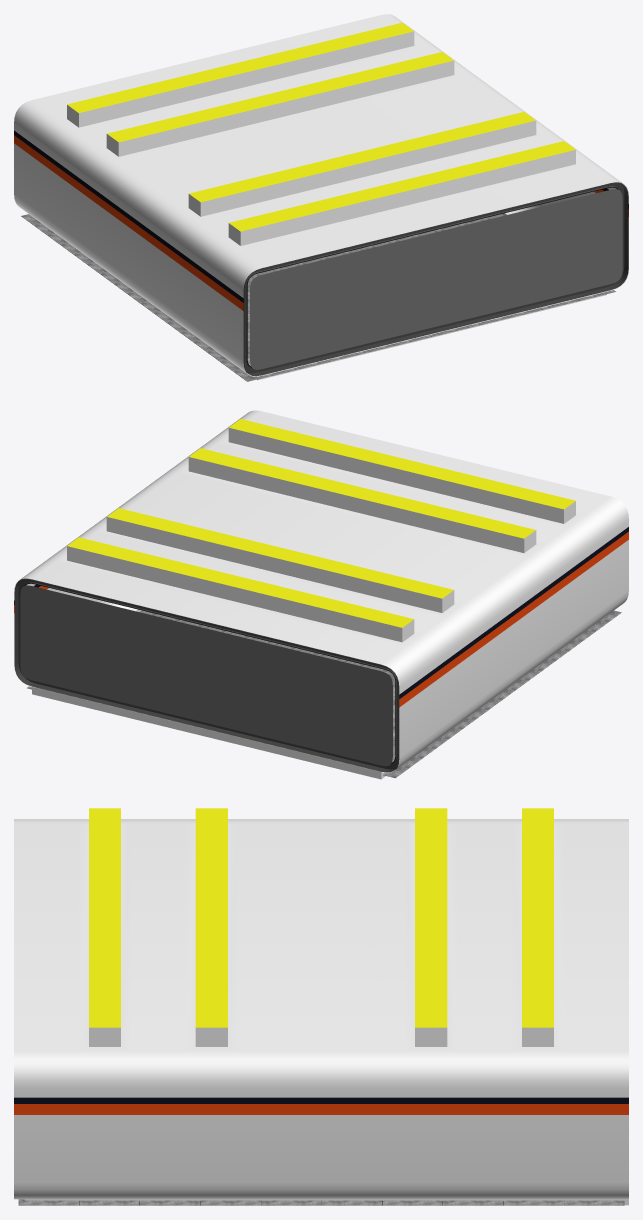
File: Tracker-Master_Environnement.fbx
The picture shows the model from 3 angles, top to bottom: view 1: azimuth 30°, elevation 25°; view 2: azimuth 150°, elevation 25°; view 3: azimuth 270°, elevation 25°; orthographic projection. The views are drawn at different scales.
Parts seen in each view (by area): view 1: Tracker-Master_Environnement; view 2: Tracker-Master_Environnement; view 3: Tracker-Master_Environnement.
Boxes of the visible parts, x1=… form: Tracker-Master_Environnement: x1=14, y1=14, x2=628, y2=381; Tracker-Master_Environnement: x1=14, y1=410, x2=628, y2=779; Tracker-Master_Environnement: x1=14, y1=808, x2=628, y2=1205.
Bounding box in the file's own units: 33.42 × 10.73 × 34.5.
